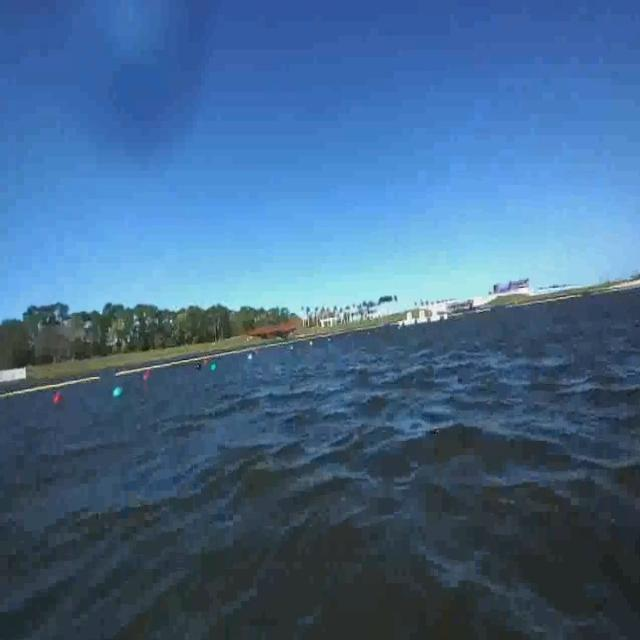green-buoy: (115, 384, 126, 397)
red-buoy: (55, 393, 63, 403)
